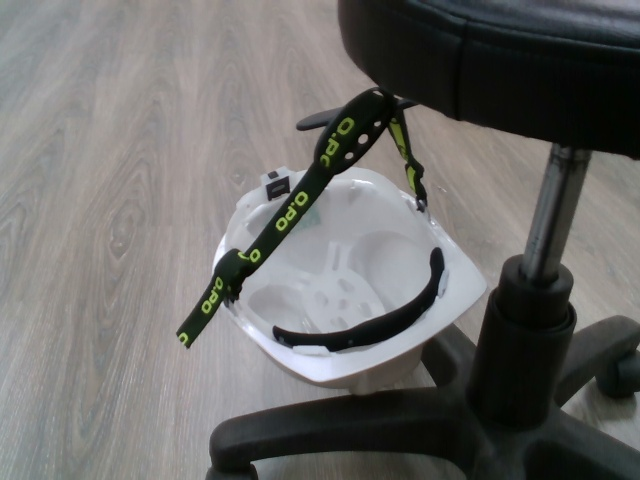helmet: (206, 160, 490, 387)
